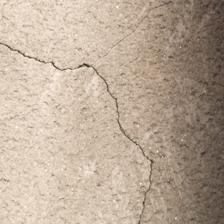Crack: (32, 24, 103, 136), (82, 0, 182, 63)
